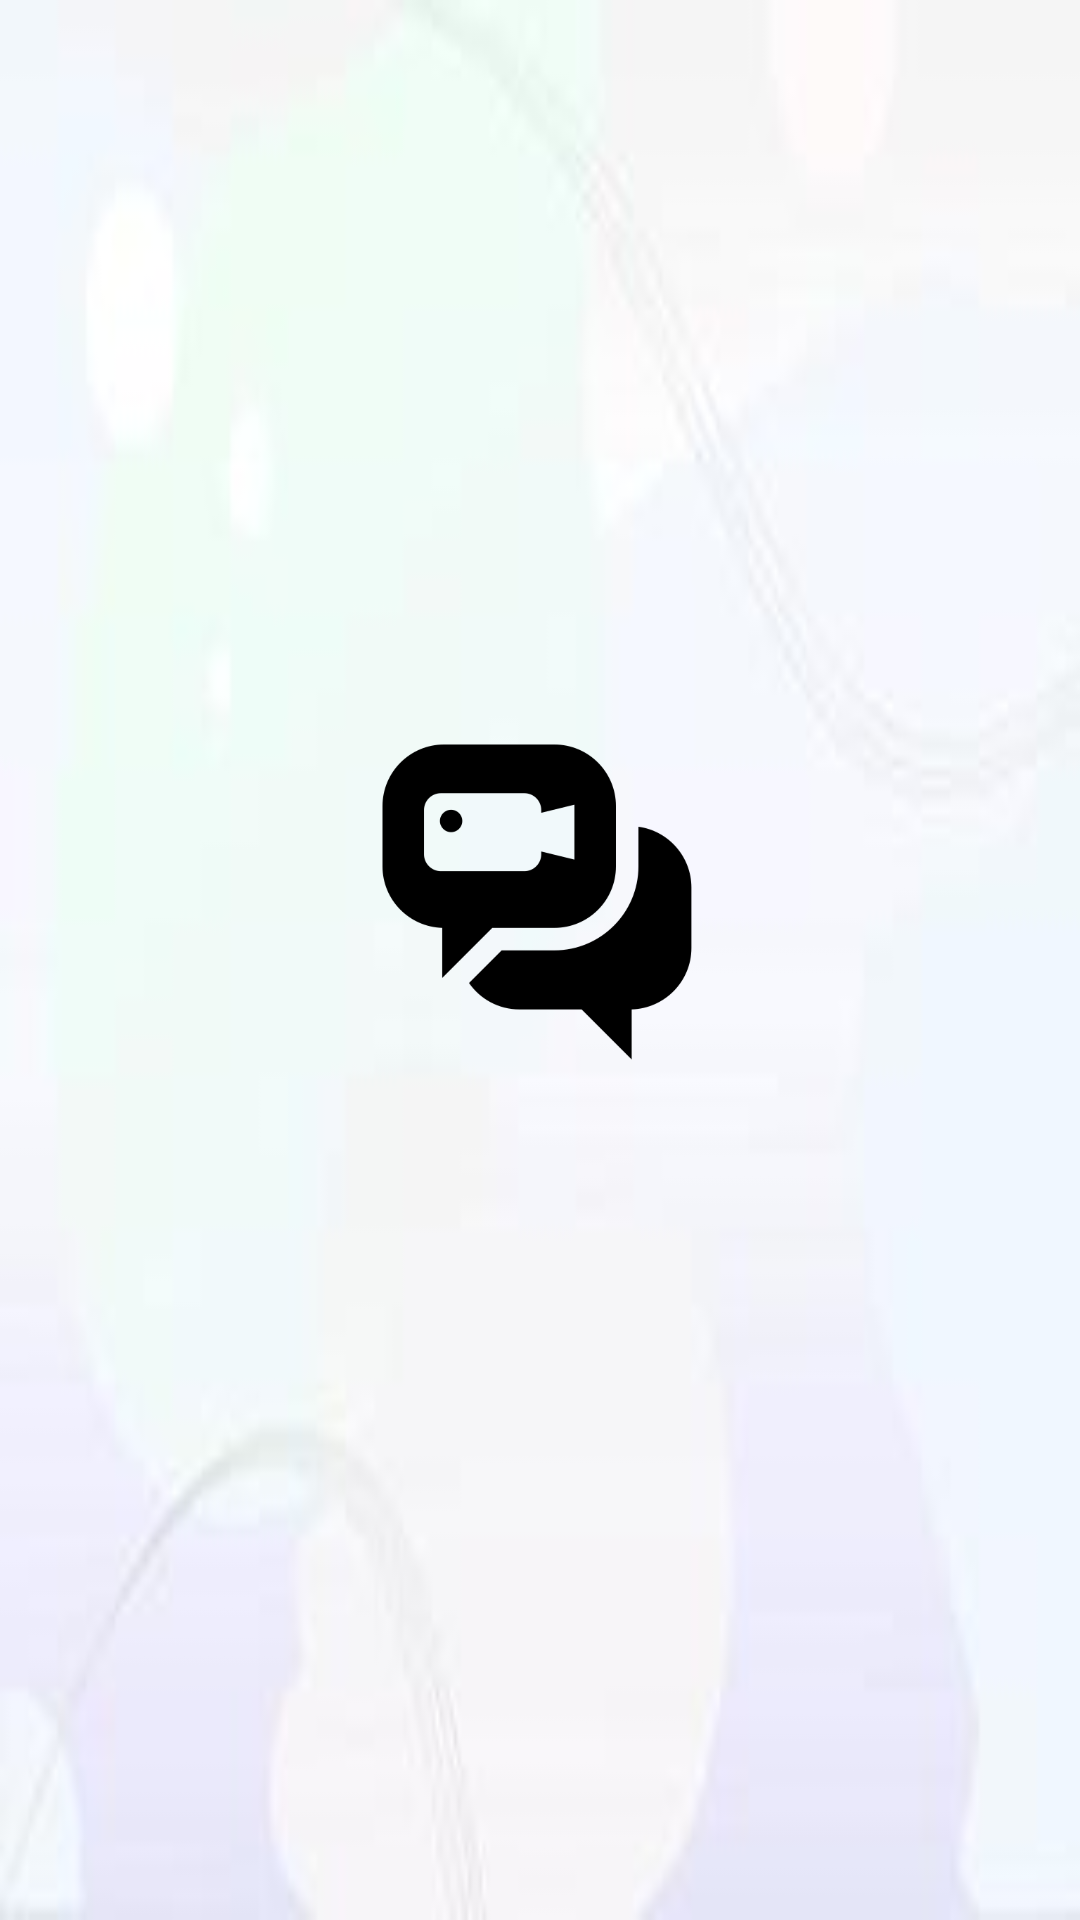

Where icons sit on this 1080×1920 app screen, as box=[x1, y1, x2, y2]:
meeting: box=[382, 744, 692, 1060]
